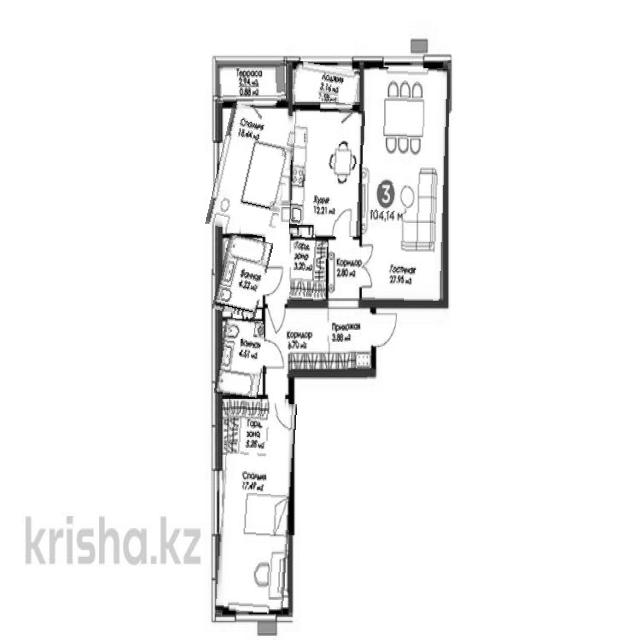balcony: (217, 64, 286, 103), (293, 63, 359, 103)
bathroom: (216, 235, 269, 317), (218, 319, 266, 398)
hallway: (264, 311, 373, 374)
kitchen: (291, 108, 363, 237)
living_room: (363, 67, 448, 300), (218, 400, 294, 613), (212, 106, 295, 236)
other: (291, 238, 327, 300)
